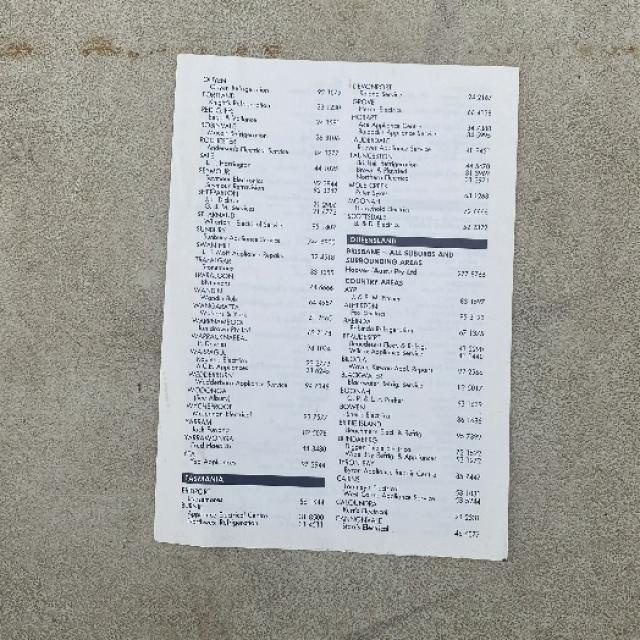paper: (153, 52, 519, 560)
